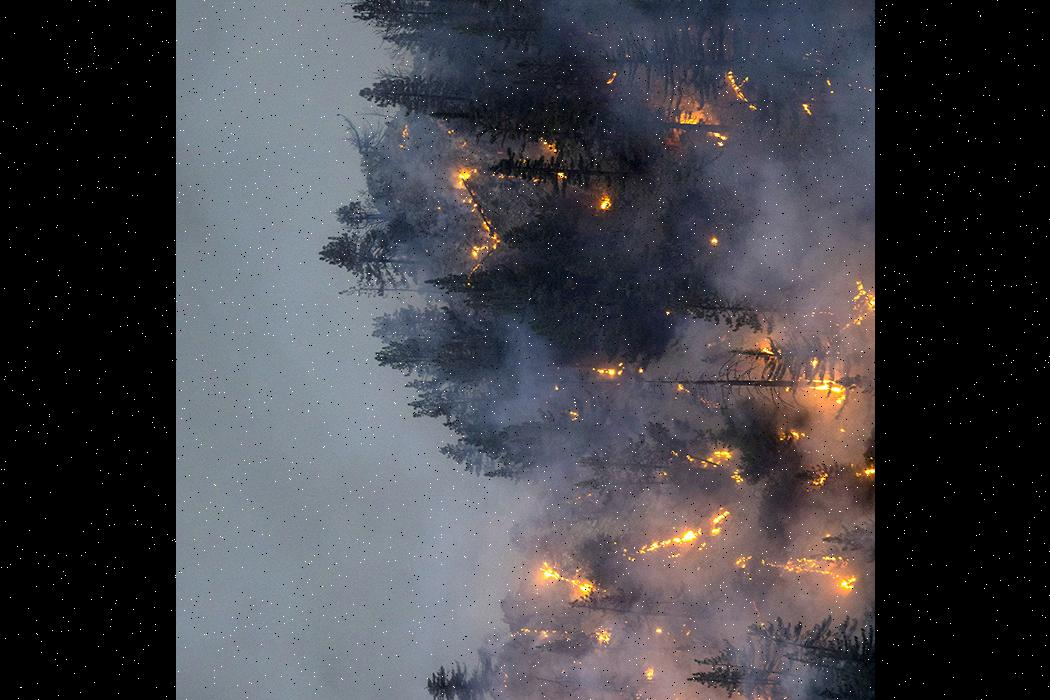fire: (430, 110, 875, 700)
